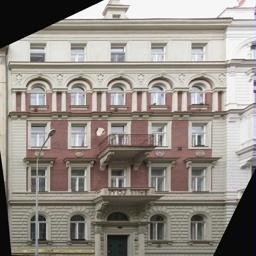building: (15, 0, 226, 256)
